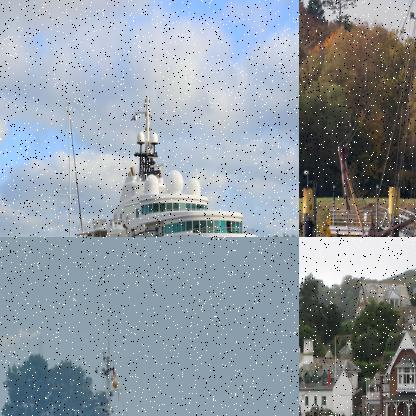Patrol Boat: (15, 317, 177, 415), (299, 329, 415, 415)
Sails Boat: (336, 0, 415, 236)
Yacht: (0, 98, 298, 236)
